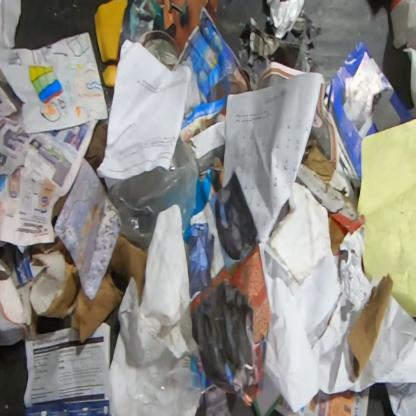cardboard: (29, 236, 124, 344), (109, 235, 148, 301), (94, 0, 128, 63), (102, 65, 118, 88)
soft_plastic: (106, 136, 200, 251)
